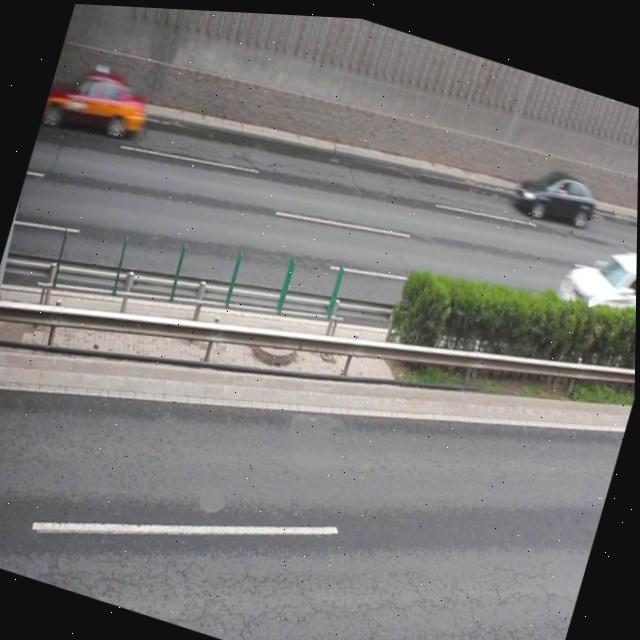car: (41, 49, 157, 149), (548, 221, 638, 343), (509, 149, 603, 231)
